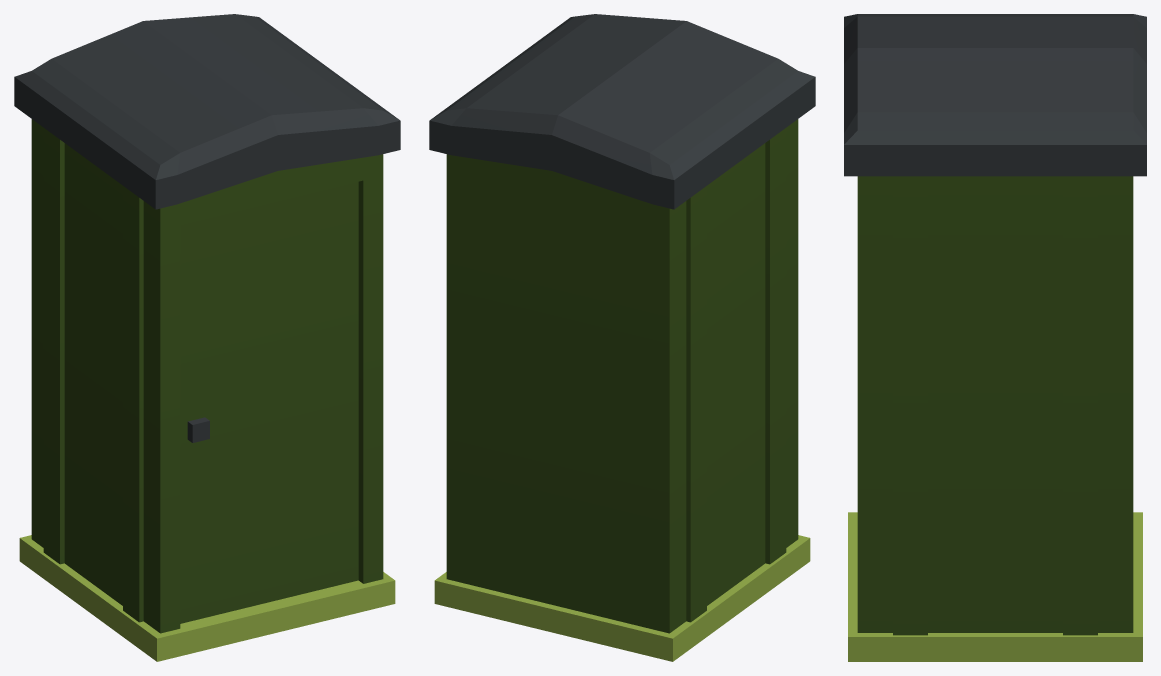
3 views of the same model, side by side, from view 1: azimuth 30°, elevation 25°; view 2: azimuth 150°, elevation 25°; view 3: azimuth 270°, elevation 25° (orthographic). The views are drawn at different scales.
Parts seen in each view (by area): view 1: WC_01; view 2: WC_01; view 3: WC_01.
Boxes of the visible parts, x1=… form: WC_01: x1=14, y1=14, x2=400, y2=661; WC_01: x1=429, y1=14, x2=815, y2=661; WC_01: x1=844, y1=14, x2=1146, y2=661.
Size of the model in its own units: 1.1 by 2.21 by 1.1.
